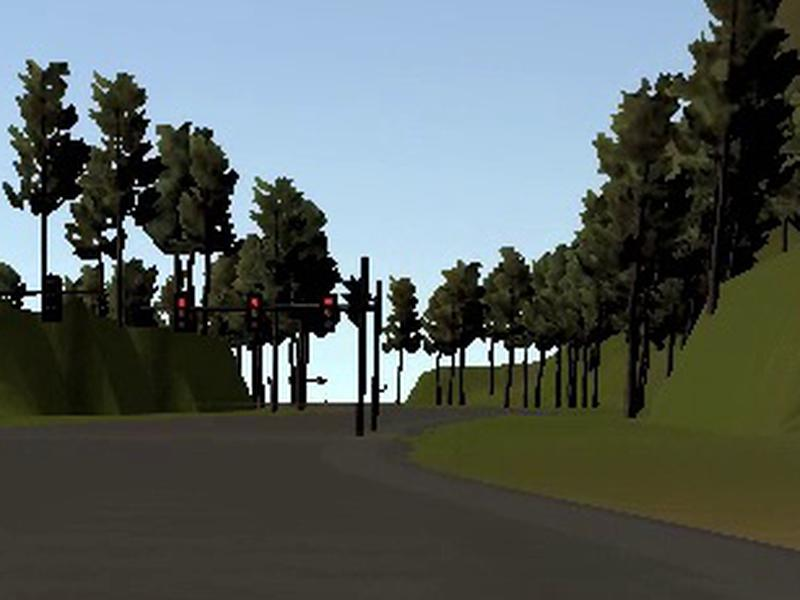Red: (318, 293, 338, 331), (247, 294, 261, 333), (175, 292, 188, 333)
